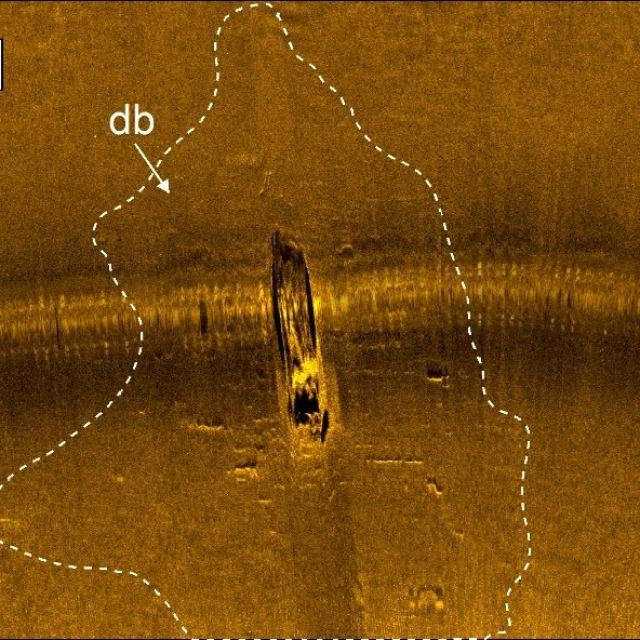shipwreck: (262, 232, 342, 449)
